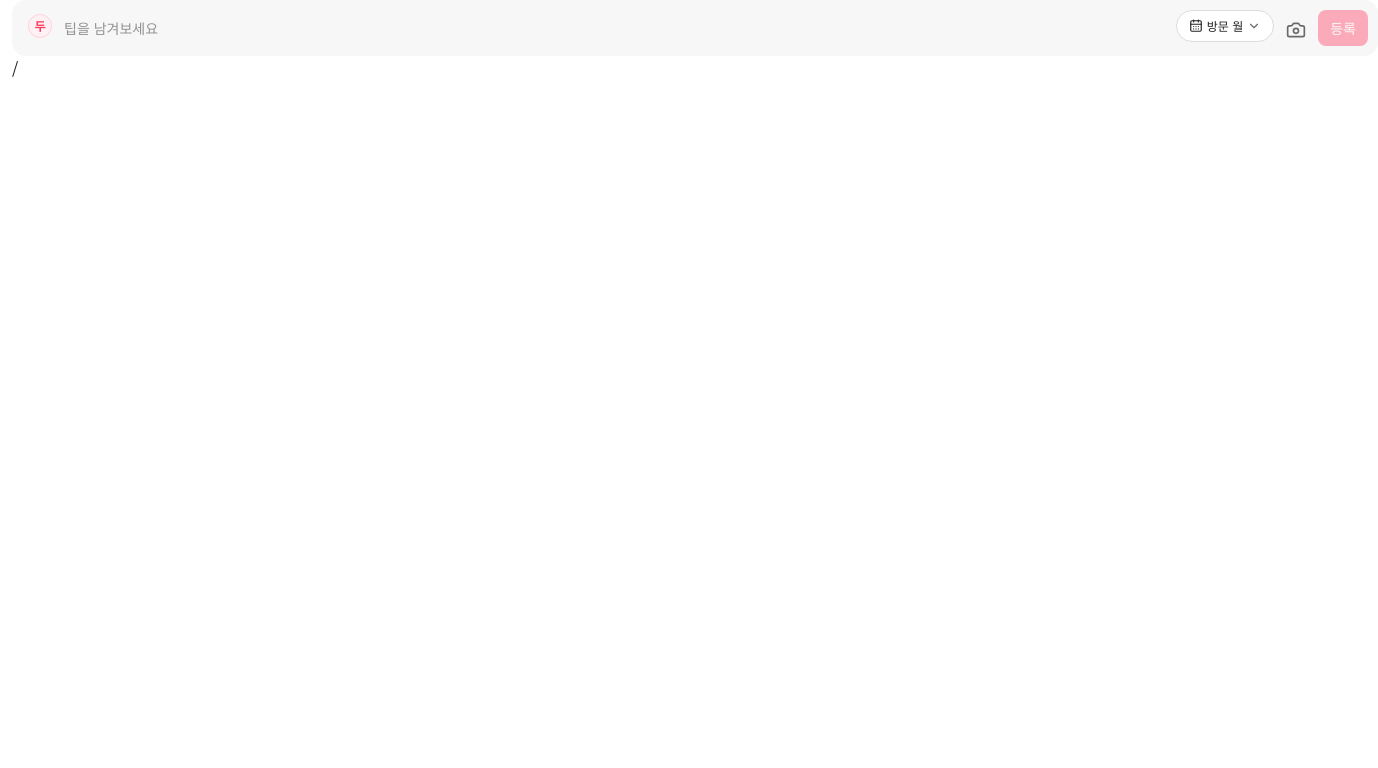
TipComposer › 등록: 앞뒤 공백을 자른 본문으로 POST, 성공하면 비우고 목록 캐시 맨 앞에 넣고 토스트
Type "  조용해요  " into the text box named "워케이션 팁".
click(614, 28); type("  조용해요  ")  # box [64,14,1164,42]
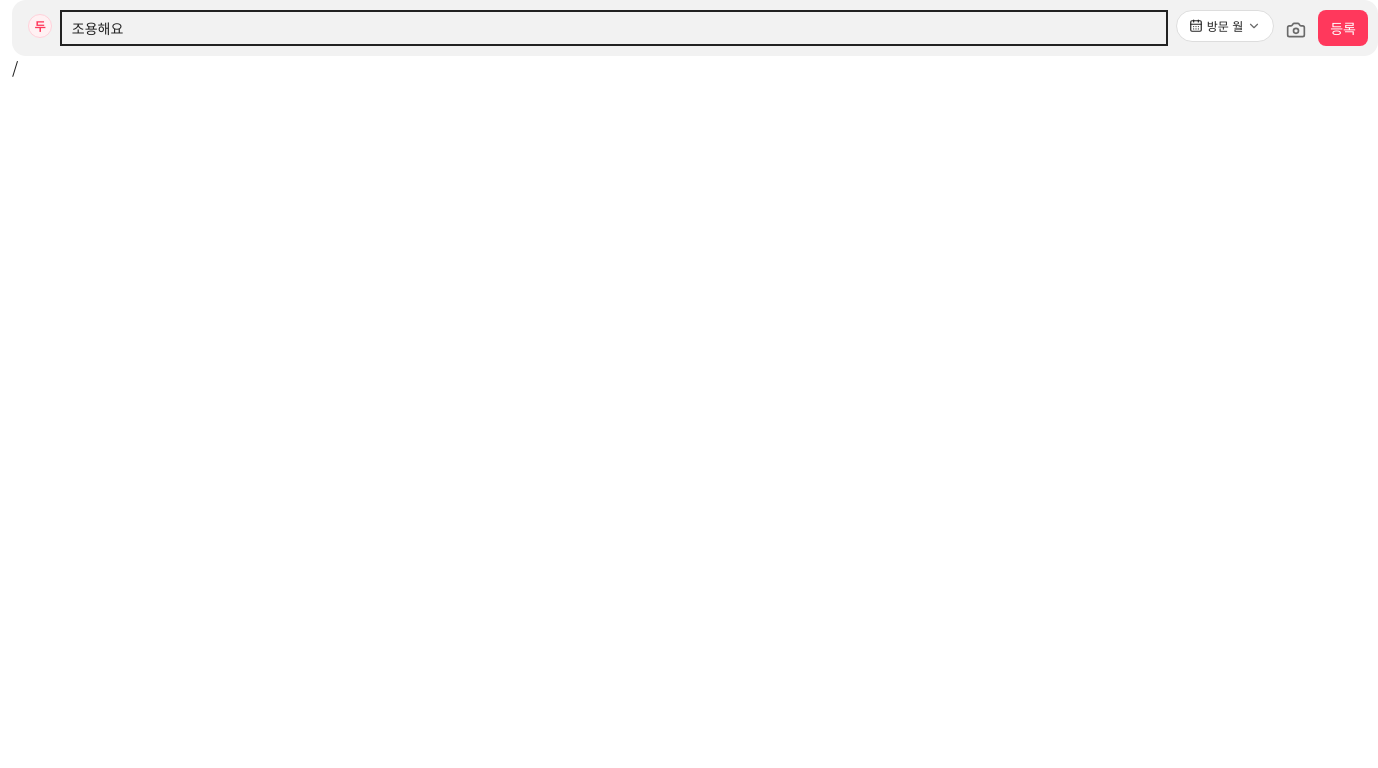
Click the button "등록".
click(1343, 28)  # box [1318,10,1368,46]
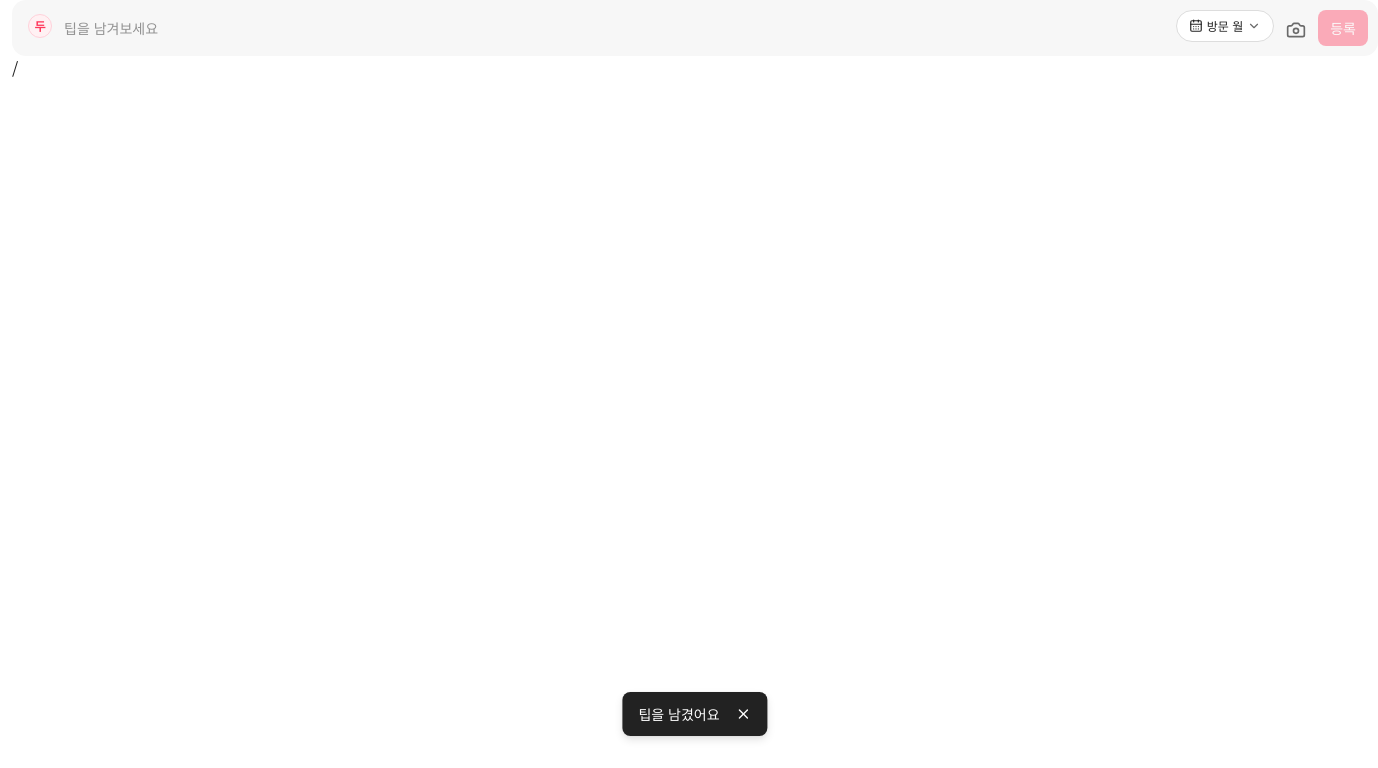
Expected: the text box named "워케이션 팁" is empty, [64,14,1164,42]
Expected: the message reads "팁을 남겼어요", [638,704,720,724]
